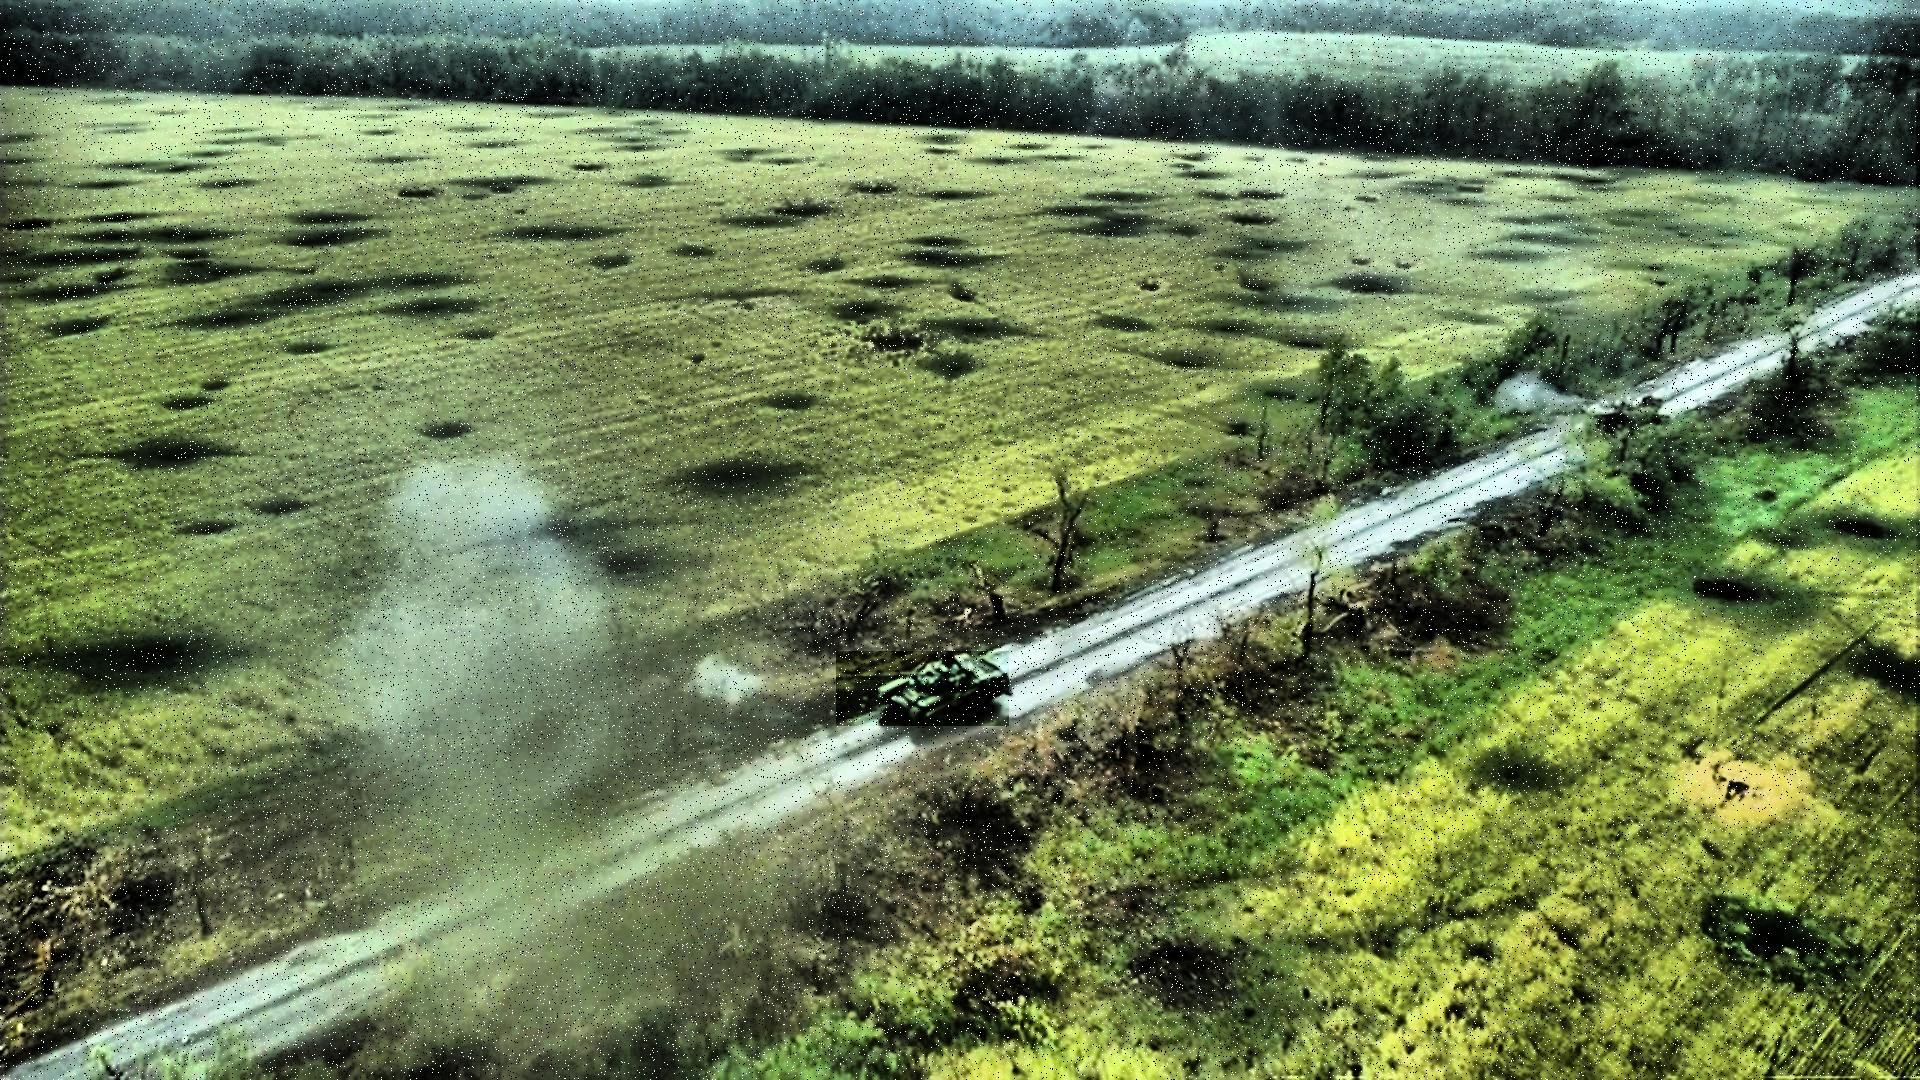military-vehicle: (837, 652, 1010, 727)
